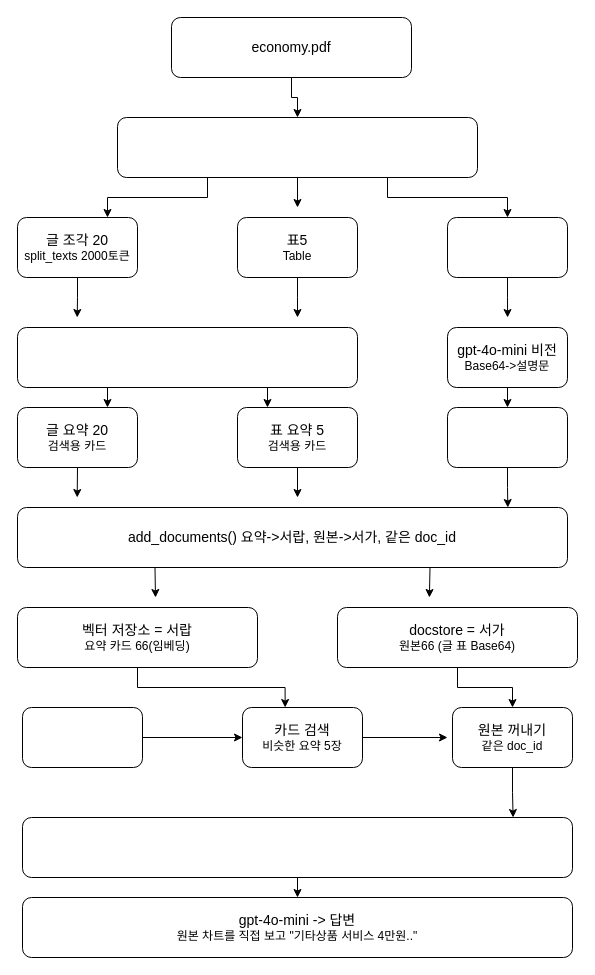
This 595x975 diagram has some shape labels left out. The centre of each missing label's shape, as x and y in pixels:
gpt-4o-mini(LLM) 한국어 요약 프롬프트: the point at 187,357
partition_pdf() hi_res 한국어 OCR 차트 제목 포함 crop: the point at 297,147
split_image_text_types -> img_prompt_func 차트 이미지 + 텍스트 + 질문을 한 메세지로 조립: the point at 297,847
질문 배당소득 소비?: the point at 82,737
차트 41 data/figures/*.jpg: the point at 507,247
차트 설명문 41 검색용 카드: the point at 507,437
